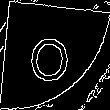O_N: (32, 26, 78, 84)
